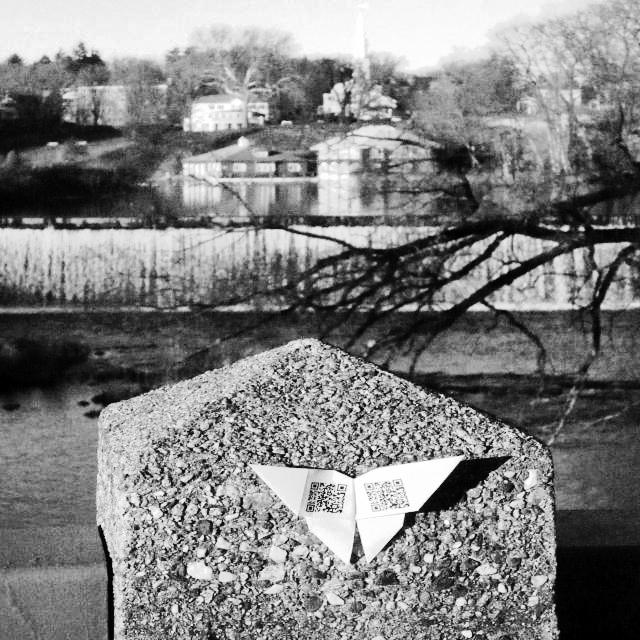qr_code: (363, 479, 410, 512), (306, 482, 347, 514)
